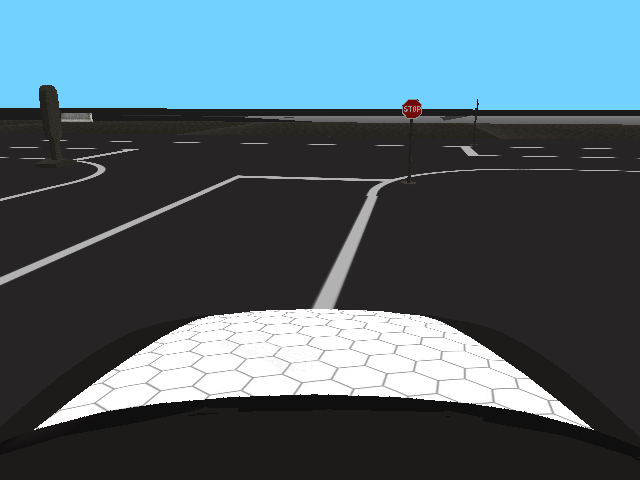stop: (401, 99, 422, 118)
